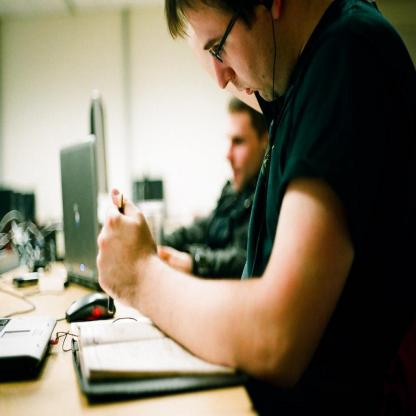board: (60, 131, 102, 295), (0, 316, 57, 374)
